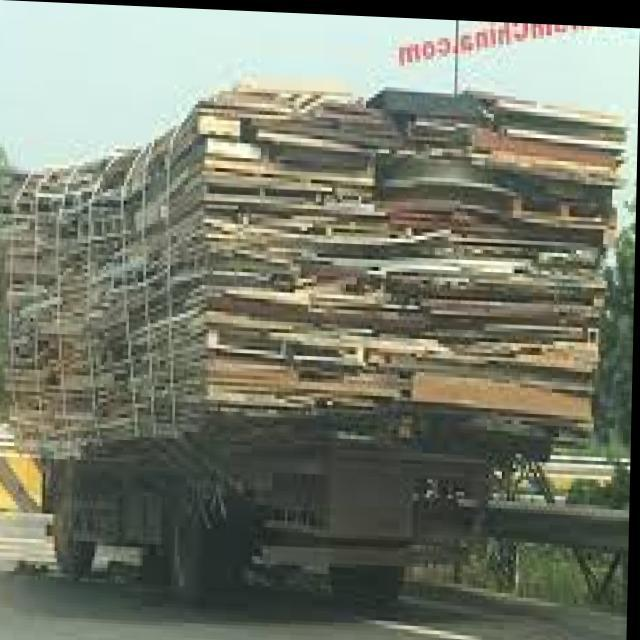uncovered: (0, 68, 628, 610)
